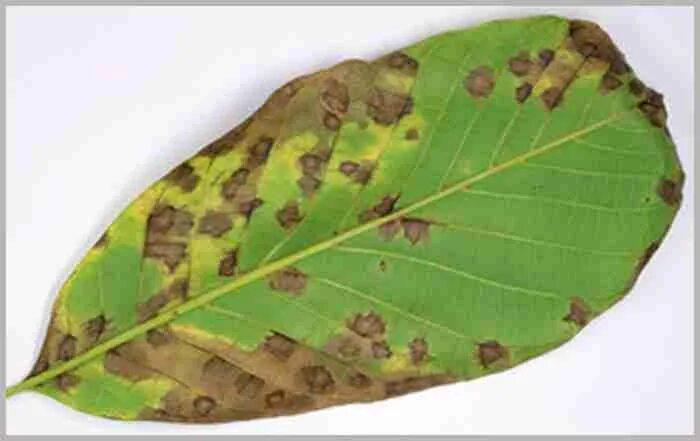late_blight: (103, 311, 458, 422), (223, 51, 419, 139), (145, 203, 233, 269), (219, 135, 272, 221), (567, 20, 630, 91), (506, 49, 557, 103), (292, 147, 339, 200), (629, 76, 666, 127), (376, 216, 436, 244), (272, 199, 308, 232), (541, 72, 573, 109), (475, 340, 509, 370), (464, 66, 495, 98), (270, 267, 307, 293), (563, 297, 591, 327), (658, 173, 683, 204)
